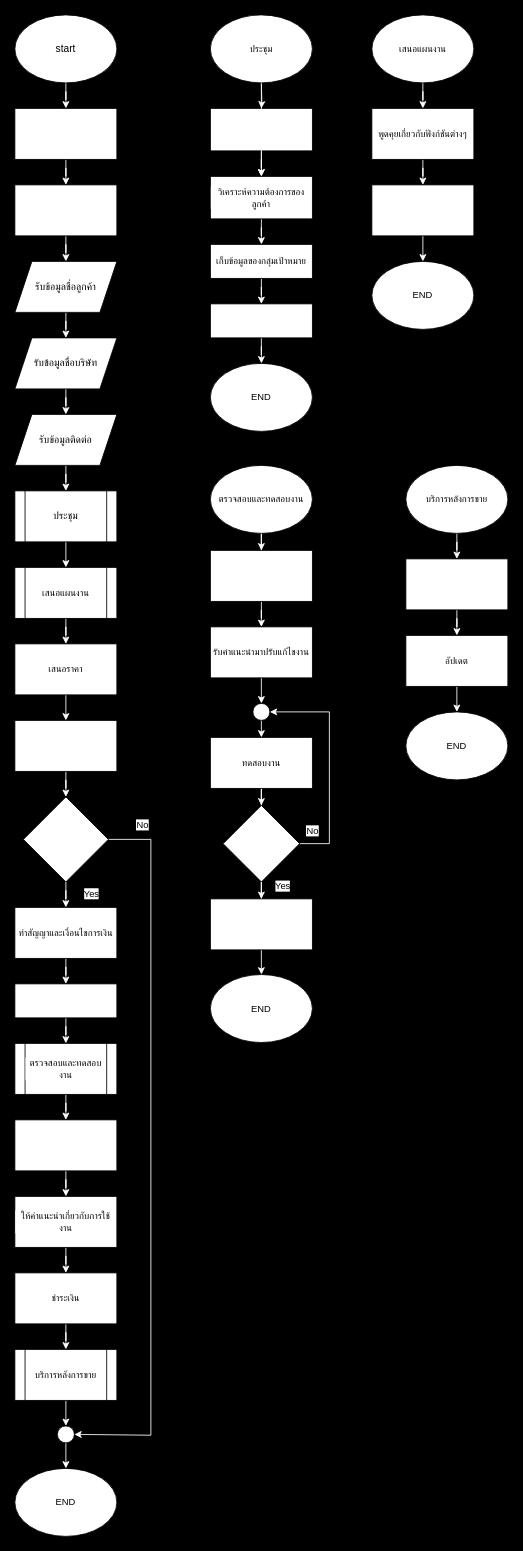
Some shapes in this 523 by 1551 pixel diagram are drawn without their labels. Each missing label, with the box of its shape:
ตารางเวลาในการส่งมอบงาน: (371, 184, 474, 236)
ทดสอบงานผ่าน: (222, 805, 300, 882)
บำรุงรักษา: (405, 558, 508, 610)
พูดคุยรายละเอียดงาน: (210, 108, 312, 151)
รอลูกค้าอนุมัติ: (14, 720, 117, 771)
ลูกค้าติดต่อมาก: (14, 184, 117, 236)
ลูกค้าทำการตรวจสอบงาน: (210, 550, 312, 601)
ลูกค้าอนุมัติงาน: (23, 796, 108, 882)
ส่งมอบงานให้ลูกค้า: (14, 1119, 117, 1171)
หาข้อมูลเพิ่มเติม: (210, 303, 312, 338)
เตรียมส่งมอบงานให้ลูกค้า: (210, 898, 312, 950)
เริ่มงาน: (14, 983, 117, 1018)
โพสเนื้อหางานที่รับทำ: (14, 108, 117, 159)
